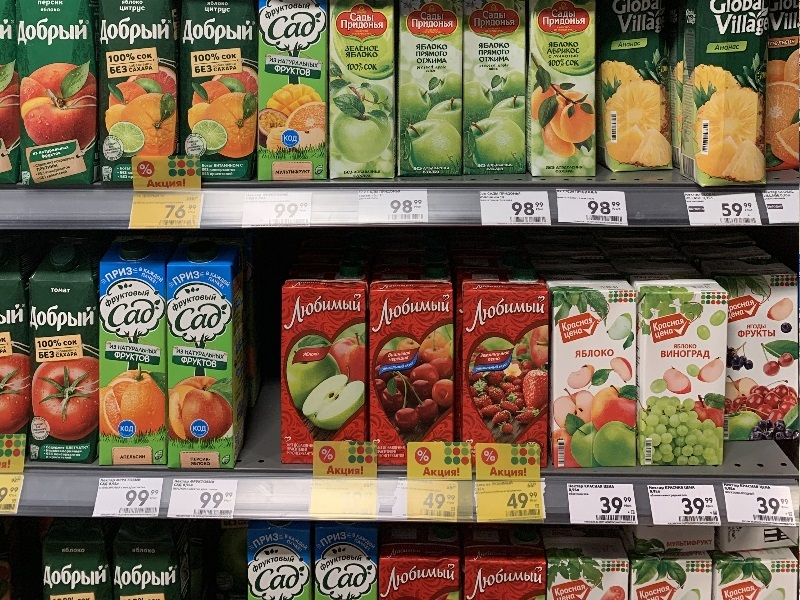juice: (157, 245, 264, 475), (531, 265, 649, 469), (625, 270, 738, 479), (454, 260, 559, 479), (87, 239, 183, 476), (363, 262, 469, 473), (277, 263, 380, 478), (19, 243, 112, 469)
